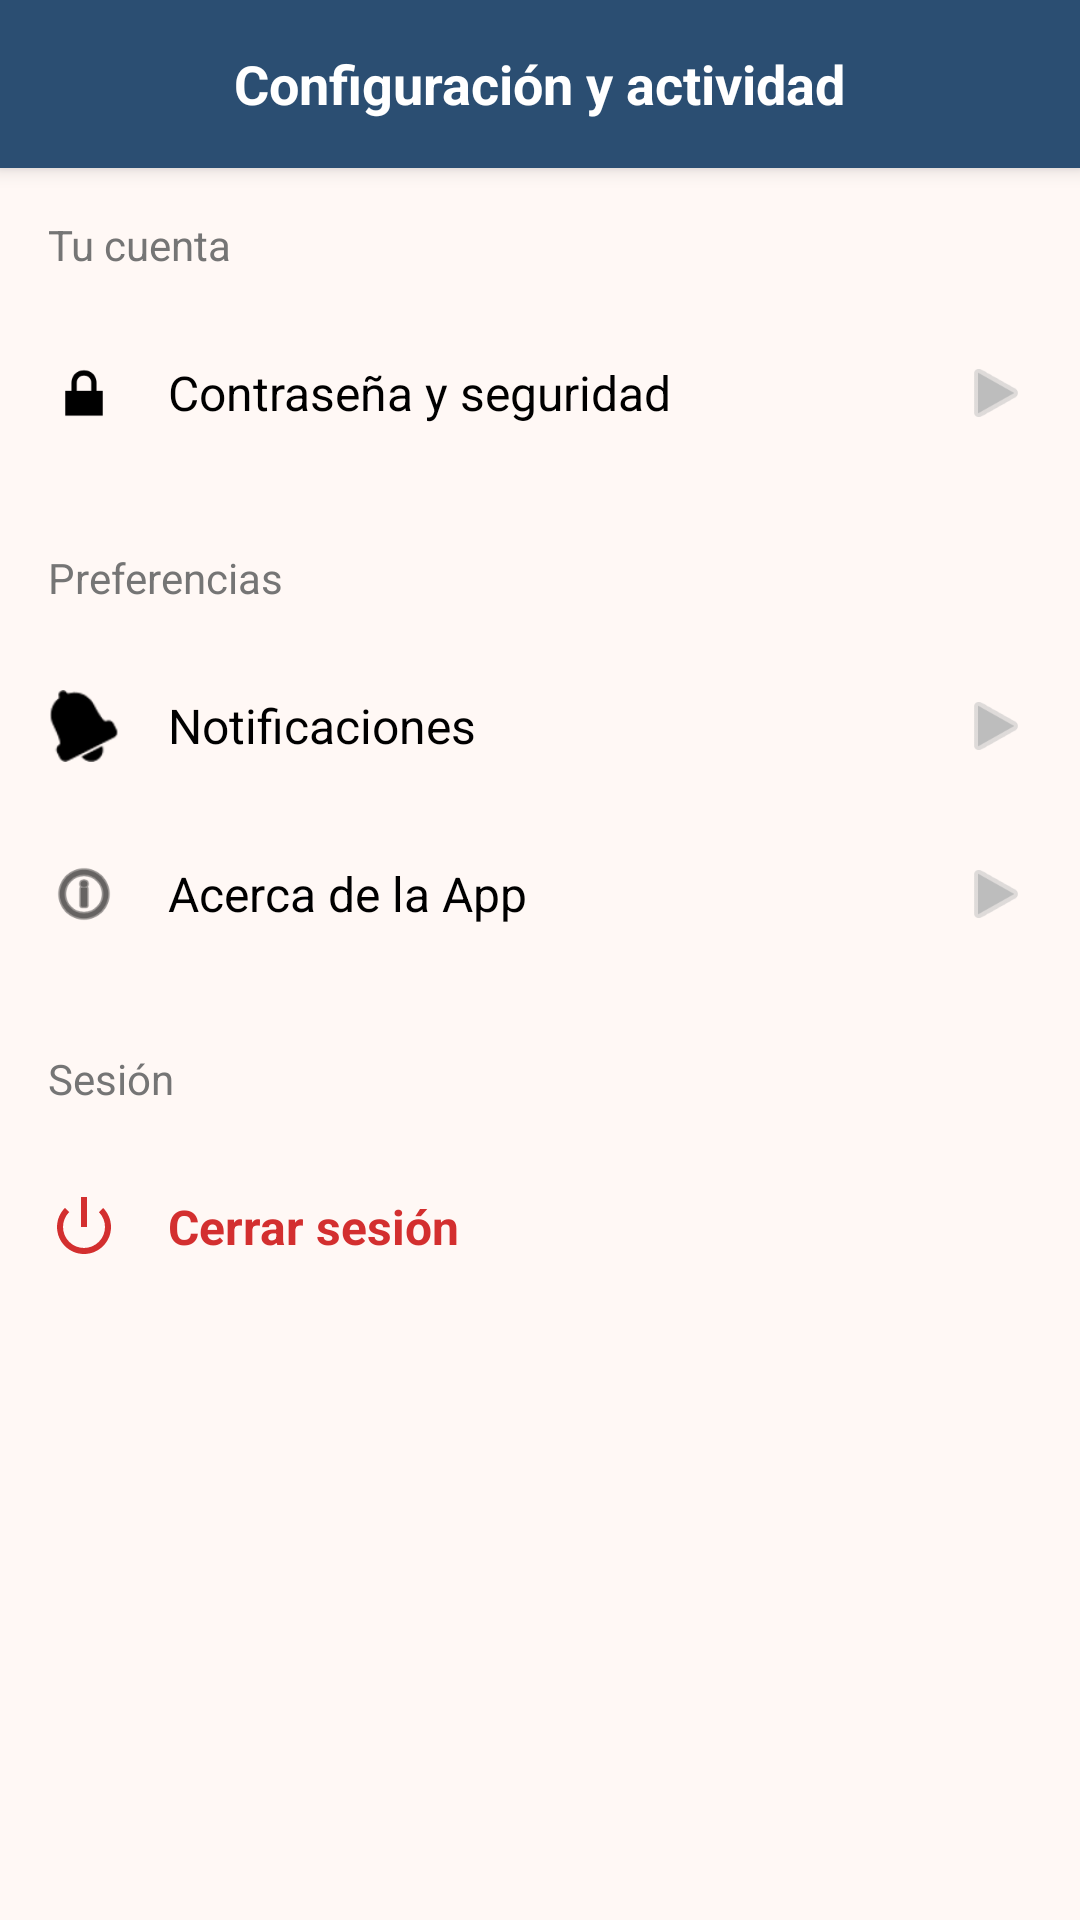

Icon bounding boxes for this 1080px×1920px phone screenshot, format (x1, y1, x2, y2):
info details: (58, 868, 110, 920)
lock: (65, 370, 103, 416)
lock power off: (57, 1197, 111, 1254)
play: (974, 369, 1018, 417), (974, 702, 1018, 750), (974, 870, 1018, 918)
popup reminder: (50, 690, 118, 762)
